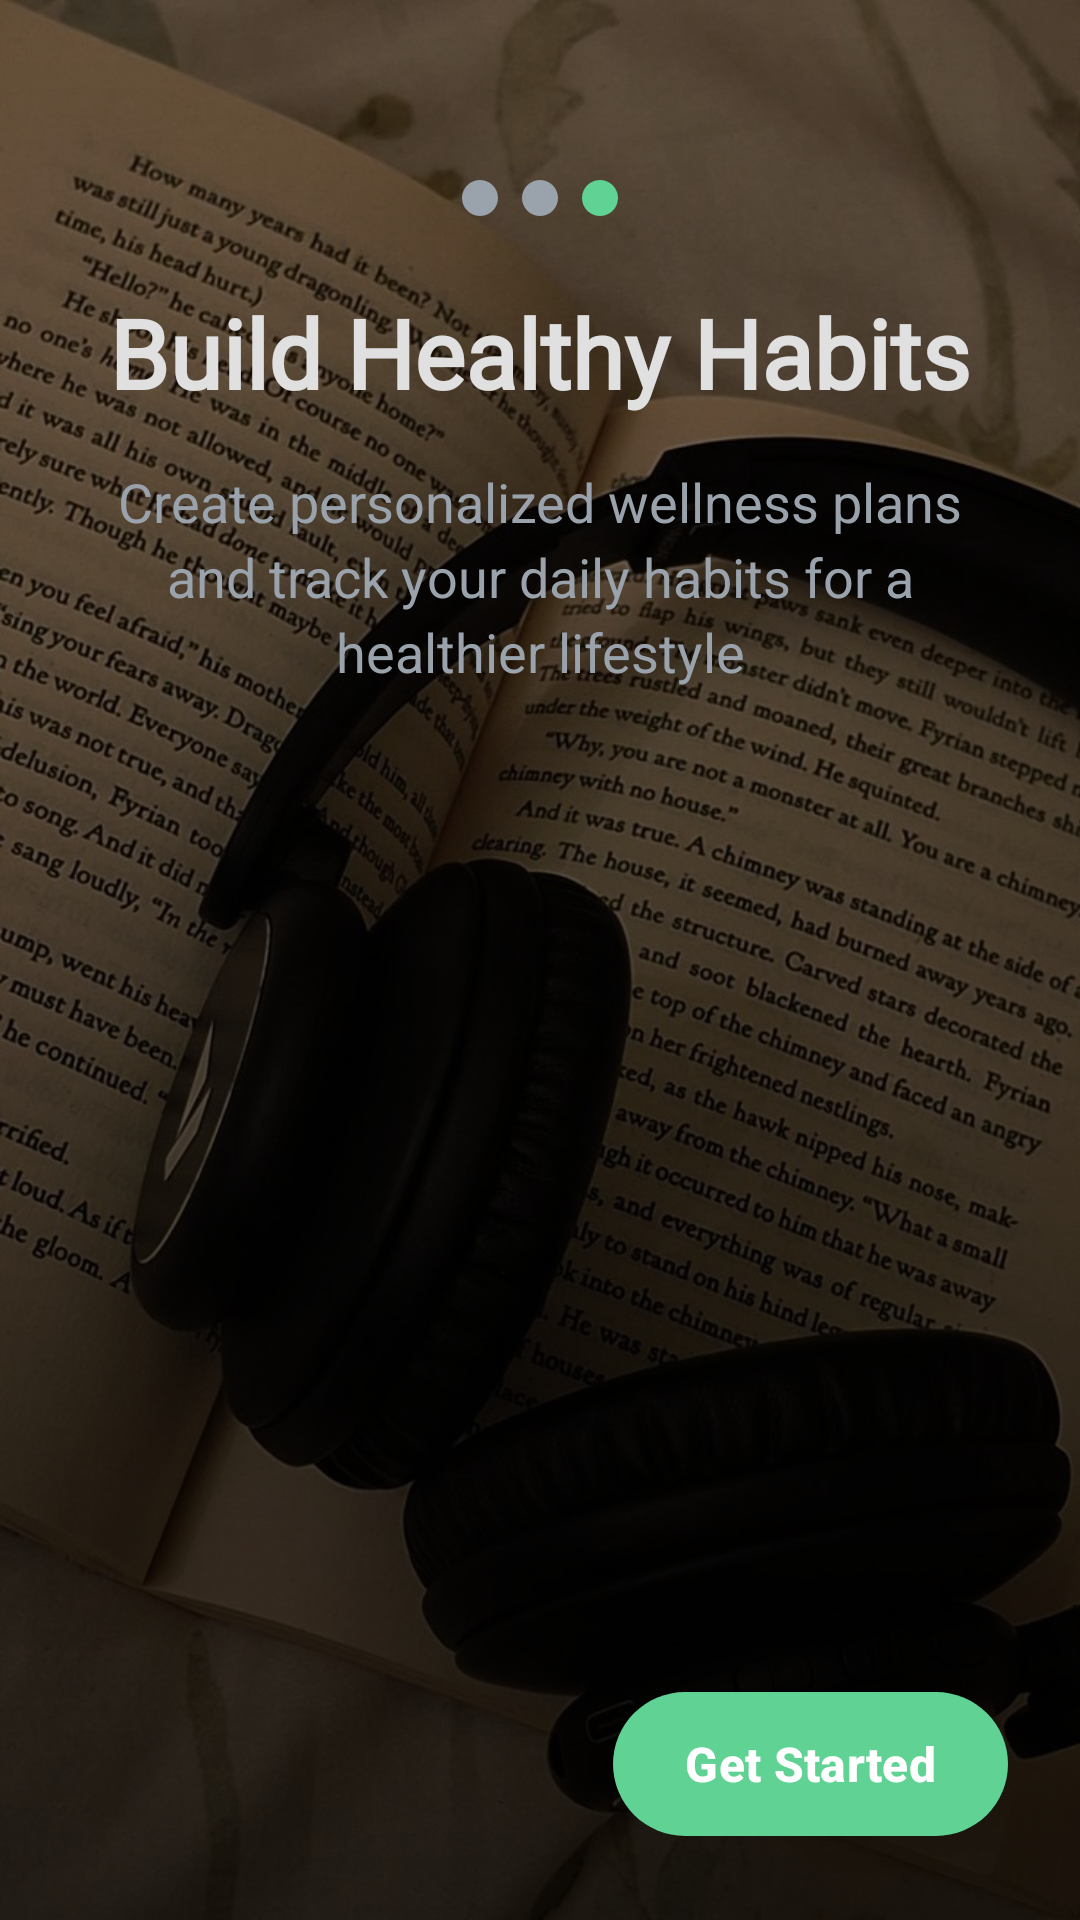

Point at icon controls on the screen. Image size 1080px x 1920px, points as [x,y].
page indicator: [480,198], [540,198], [600,198]
